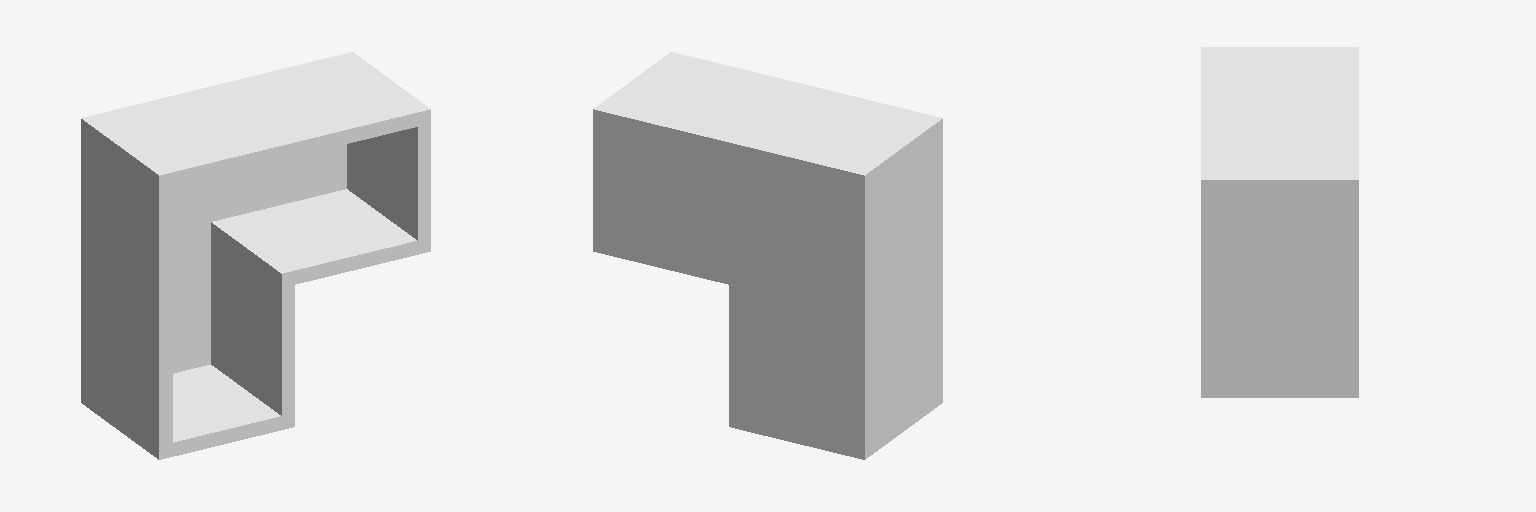
The model's file is LShapedRoom4.obj.
3 renders of one model, left to right at view 1: azimuth 30°, elevation 25°; view 2: azimuth 150°, elevation 25°; view 3: azimuth 270°, elevation 25°, orthographic.
Visible parts, largest first — view 1: LShapedRoom4; view 2: LShapedRoom4; view 3: LShapedRoom4.
Part boxes in pixels (x1,y1,x2,y2): LShapedRoom4: (81,52,430,459); LShapedRoom4: (593,52,942,459); LShapedRoom4: (1201,47,1358,397).
Size of the model in its own units: 40 by 40 by 20.